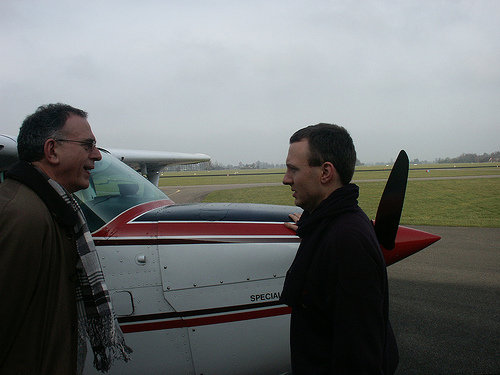without_mask: (20, 105, 109, 198), (277, 128, 358, 208)
